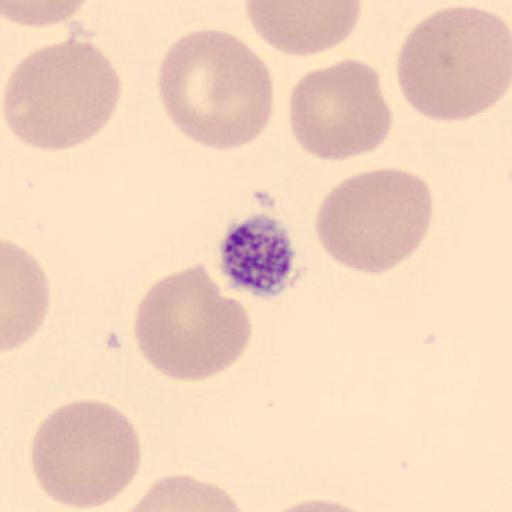Platelet: (216, 212, 303, 299)
RBC: (155, 26, 276, 153), (132, 262, 253, 384), (395, 4, 512, 124), (2, 39, 123, 153), (28, 398, 144, 512), (314, 166, 434, 276), (287, 57, 394, 163), (242, 0, 364, 58), (2, 238, 52, 354), (114, 471, 246, 512), (2, 0, 92, 30), (259, 496, 382, 512)
